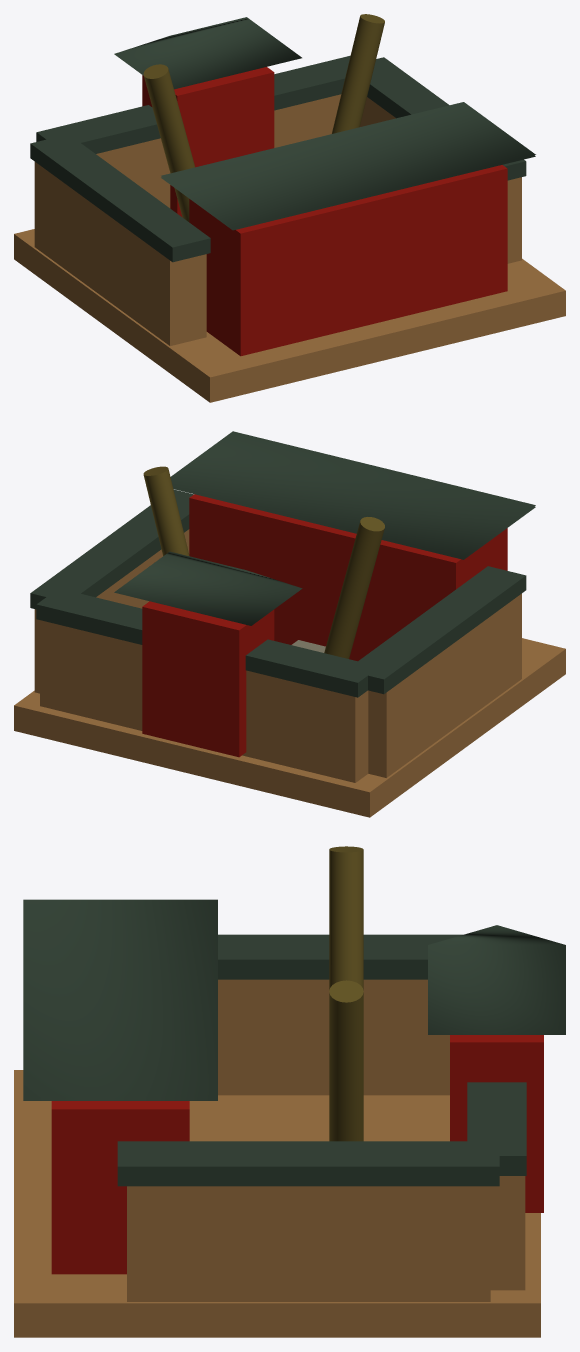
The model's file is Arsenal.fbx.
3 views of the same model, one above another, from view 1: azimuth 30°, elevation 25°; view 2: azimuth 150°, elevation 25°; view 3: azimuth 270°, elevation 25° (orthographic). The views are drawn at different scales.
Parts seen in each view (by area): view 1: north_store_body, yard, store_roof, east_wall, gate_tower_body, east_wall_coping, gate_tower_roof, south_wall_e_coping, weapon_rack_e, weapon_rack_w, west_wall_coping, south_wall_w_coping (+4 smaller); view 2: north_store_body, store_roof, yard, gate_tower_body, east_wall, south_wall_e, south_wall_w, east_wall_coping, gate_tower_roof, west_wall_coping, south_wall_e_coping, weapon_rack_e (+4 smaller); view 3: west_wall, yard, store_roof, east_wall, west_wall_coping, north_store_body, gate_tower_roof, east_wall_coping, gate_tower_body, weapon_rack_w, weapon_rack_e, south_wall_w_coping (+1 smaller).
Boxes of the visible parts, <box> form: north_store_body: <box>189,165,507,356</box>; yard: <box>14,229,565,402</box>; store_roof: <box>161,102,535,228</box>; east_wall: <box>34,162,206,345</box>; gate_tower_body: <box>142,67,274,216</box>; east_wall_coping: <box>30,137,210,262</box>; gate_tower_roof: <box>114,17,301,89</box>; south_wall_e_coping: <box>36,105,160,153</box>; weapon_rack_e: <box>143,64,194,221</box>; weapon_rack_w: <box>332,14,384,133</box>; west_wall_coping: <box>346,57,526,180</box>; south_wall_w_coping: <box>274,55,378,110</box>; north_store_body: <box>189,494,507,661</box>; store_roof: <box>170,431,535,558</box>; yard: <box>14,638,565,817</box>; gate_tower_body: <box>142,601,274,757</box>; east_wall: <box>368,593,521,777</box>; south_wall_e: <box>242,670,368,782</box>; south_wall_w: <box>40,620,142,730</box>; east_wall_coping: <box>347,566,526,694</box>; gate_tower_roof: <box>114,551,302,625</box>; west_wall_coping: <box>30,489,193,609</box>; south_wall_e_coping: <box>245,639,379,697</box>; weapon_rack_e: <box>324,517,384,658</box>; west_wall: <box>127,1186,490,1301</box>; yard: <box>14,1070,540,1337</box>; store_roof: <box>23,899,217,1098</box>; east_wall: <box>218,979,449,1095</box>; west_wall_coping: <box>117,1141,499,1186</box>; north_store_body: <box>51,1101,189,1274</box>; gate_tower_roof: <box>428,925,565,1034</box>; east_wall_coping: <box>218,934,462,979</box>; gate_tower_body: <box>450,1035,543,1212</box>; weapon_rack_w: <box>329,980,363,1141</box>; weapon_rack_e: <box>329,846,363,990</box>; south_wall_w_coping: <box>467,1082,526,1175</box>.
Bounding box in the file's own units: 88 × 67.11 × 88.
